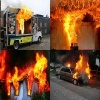fire: (52, 0, 100, 45), (0, 50, 47, 95), (73, 53, 91, 84), (17, 6, 33, 34), (67, 64, 70, 67)
